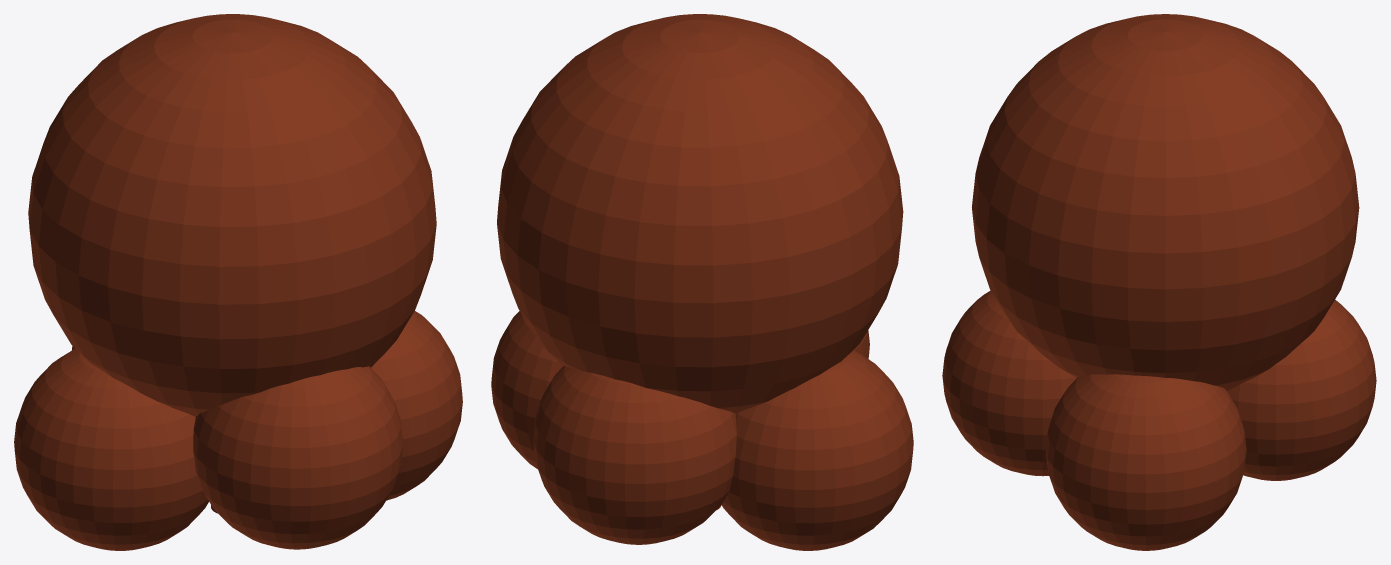
File: LargeTreeTopPiece.fbx
3 renders of one model, left to right at view 1: azimuth 30°, elevation 25°; view 2: azimuth 150°, elevation 25°; view 3: azimuth 270°, elevation 25°, orthographic. The views are drawn at different scales.
Visible parts, largest first — view 1: Sphere; view 2: Sphere; view 3: Sphere.
Part boxes in pixels (box(x1,y1,x2,y2)): Sphere: box(14, 14, 462, 550); Sphere: box(491, 14, 913, 550); Sphere: box(942, 14, 1376, 550).
Bounding box in the file's own units: 62249 × 70241 × 60486.
2 materials, 2 textured.
